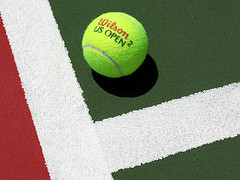tennis ball: (78, 8, 155, 81)
